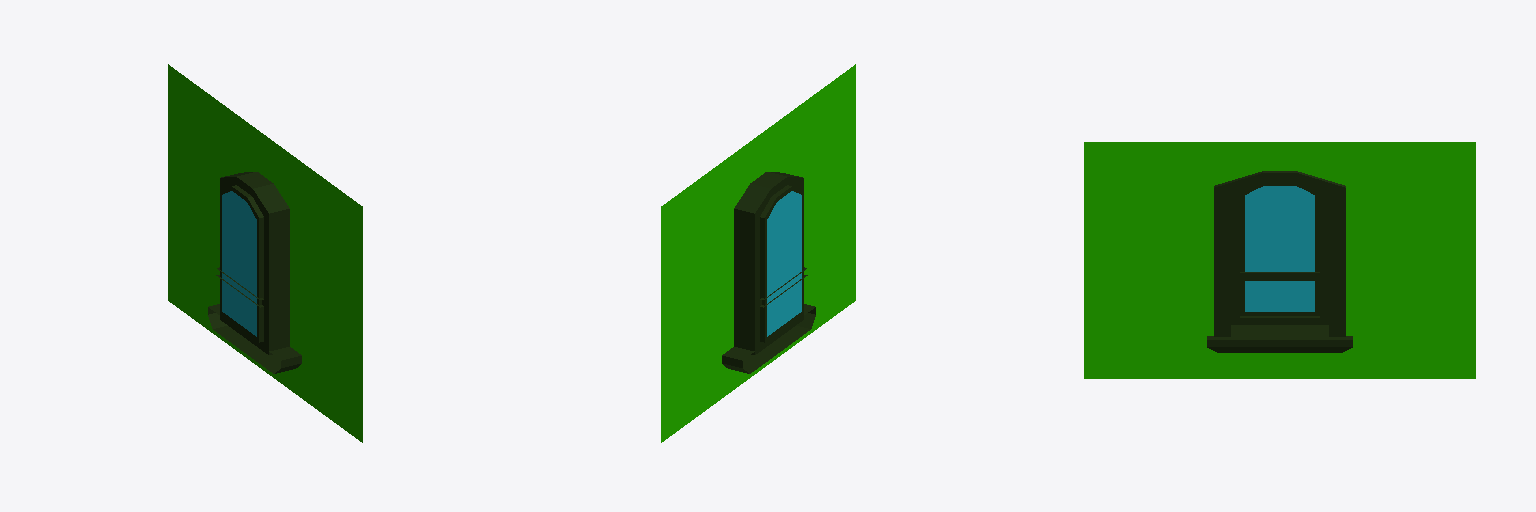
The model's file is NY_wallWindow4 2.obj.
3 renders of one model, left to right at view 1: azimuth 30°, elevation 25°; view 2: azimuth 150°, elevation 25°; view 3: azimuth 270°, elevation 25°, orthographic.
Visible parts, largest first — view 1: wall_low; view 2: wall_low; view 3: wall_low.
Part boxes in pixels (left/top/right/bottom): wall_low: left=168, top=64, right=362, bottom=442; wall_low: left=661, top=64, right=855, bottom=442; wall_low: left=1084, top=142, right=1475, bottom=378.
Bounding box in the file's own units: 0.3146 × 2 × 3.